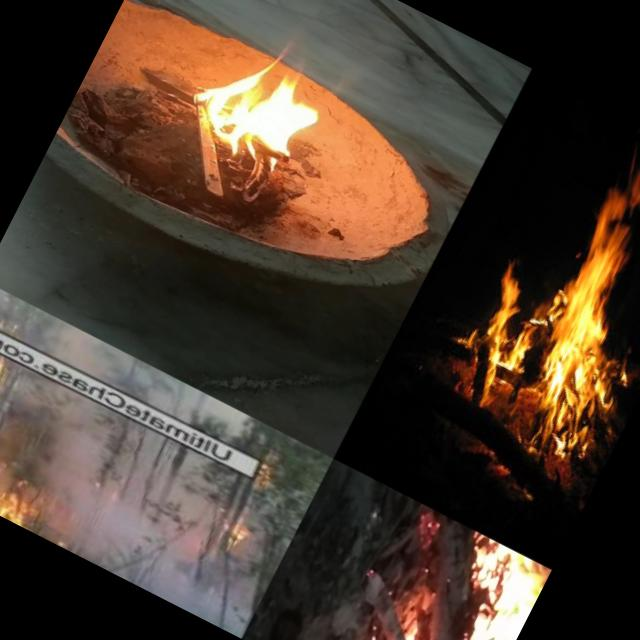fire: (444, 126, 640, 464), (188, 10, 364, 184), (0, 470, 63, 538), (0, 349, 28, 495)
smoke: (31, 435, 290, 638)
